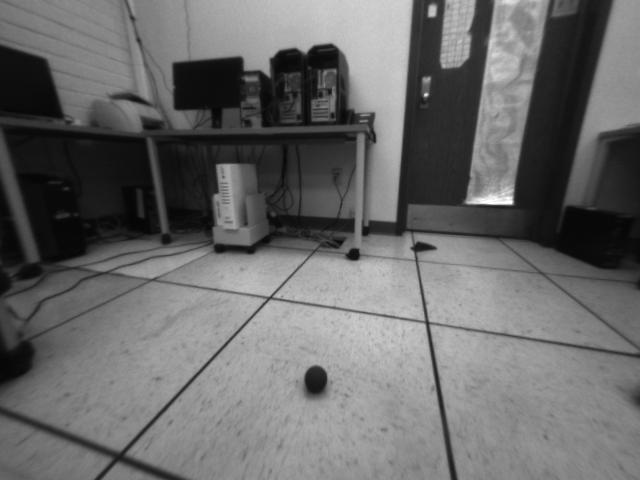dogtoy: (298, 358, 339, 401)
